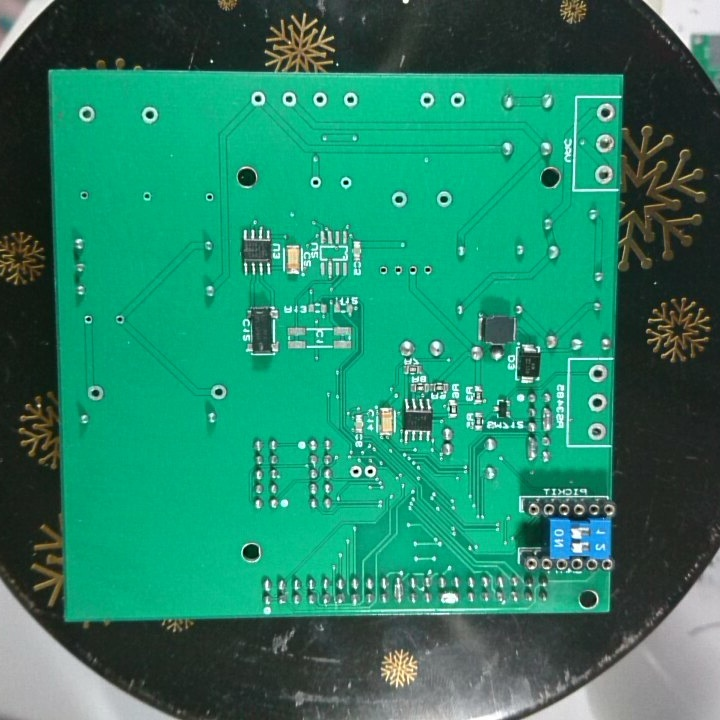F: (592, 130, 617, 155), (138, 103, 162, 128), (591, 161, 615, 186), (594, 100, 617, 126), (586, 362, 609, 385), (75, 102, 98, 124), (84, 381, 106, 404), (208, 380, 230, 403), (585, 420, 608, 442), (416, 89, 437, 112), (586, 391, 606, 415), (247, 87, 268, 109), (341, 87, 359, 112), (433, 187, 453, 209), (447, 89, 466, 112), (279, 88, 299, 109), (389, 189, 409, 209), (311, 87, 328, 109), (337, 173, 355, 191), (362, 461, 377, 482), (419, 262, 436, 280), (376, 261, 392, 280), (389, 260, 405, 279), (347, 463, 363, 480), (307, 173, 323, 190), (405, 261, 420, 279), (77, 187, 91, 206), (80, 311, 96, 327), (202, 189, 217, 206), (113, 311, 128, 328), (139, 189, 154, 204)
P: (391, 575, 405, 607), (524, 433, 537, 465), (437, 589, 460, 606), (540, 403, 553, 433)
